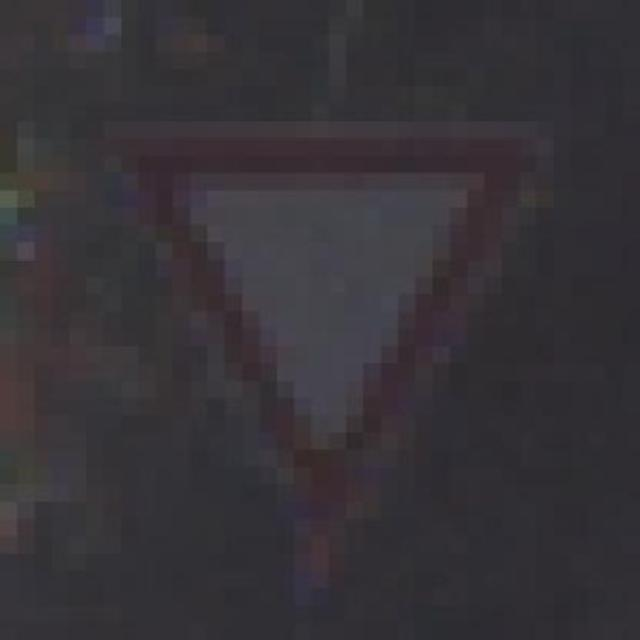Give Way: (105, 80, 573, 532)
